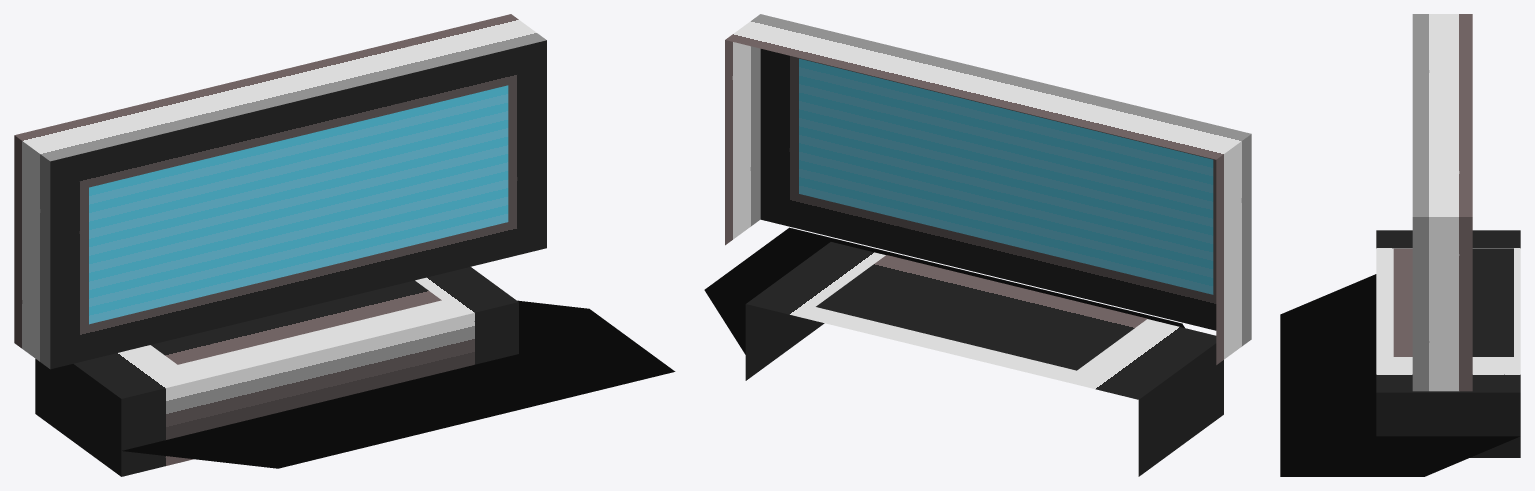
3 renders of one model, left to right at view 1: azimuth 30°, elevation 25°; view 2: azimuth 150°, elevation 25°; view 3: azimuth 270°, elevation 25°, orthographic. The views are drawn at different scales.
Parts seen in each view (by area): view 1: polygon0.002; view 2: polygon0.002; view 3: polygon0.002.
Part boxes in pixels (x1,y1,x2,y2): polygon0.002: (14,14,675,476); polygon0.002: (704,14,1251,476); polygon0.002: (1280,14,1520,476).
Bounding box in the file's own units: 345 × 188 × 157.
Materials: 3 (3 with a texture image).
